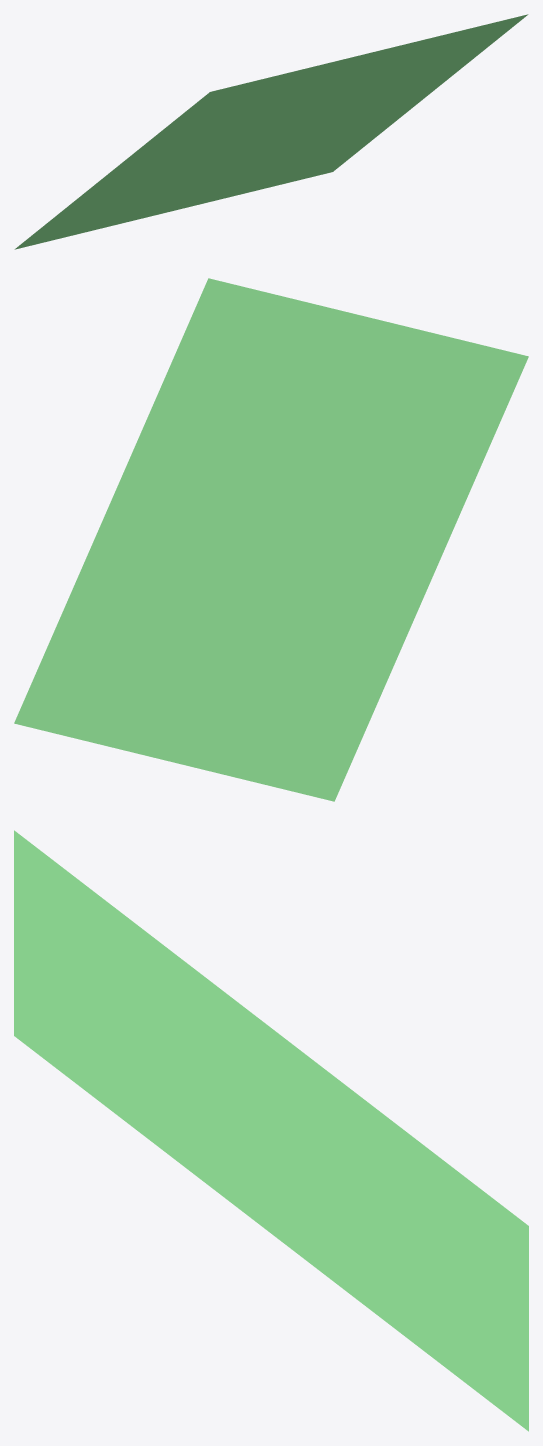
Rendered from Nav_stair_1.fbx.
3 views of the same model, one above another, from view 1: azimuth 30°, elevation 25°; view 2: azimuth 150°, elevation 25°; view 3: azimuth 270°, elevation 25° (orthographic). The views are drawn at different scales.
Parts seen in each view (by area): view 1: stair.001; view 2: stair.001; view 3: stair.001.
Boxes of the visible parts, x1,y1,x2,y2 form: stair.001: (14,14,528,249); stair.001: (14,278,528,801); stair.001: (14,830,528,1431).
Bounding box in the file's own units: 2921 × 2615 × 3076.
